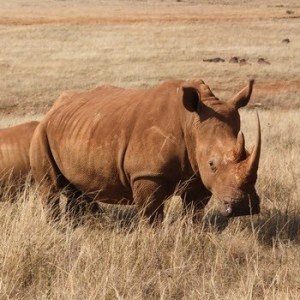rhino: (27, 78, 264, 231)
